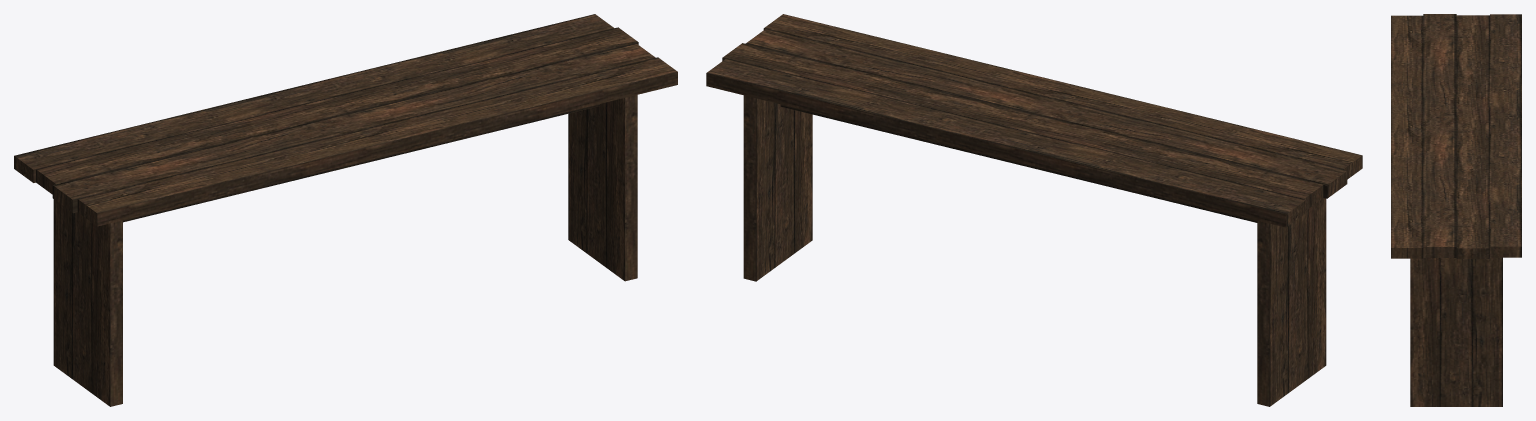
The model's file is bench_mx_1.obj.
3 views of the same model, side by side, from view 1: azimuth 30°, elevation 25°; view 2: azimuth 150°, elevation 25°; view 3: azimuth 270°, elevation 25° (orthographic). The views are drawn at different scales.
Parts seen in each view (by area): view 1: bench_mx_1; view 2: bench_mx_1; view 3: bench_mx_1.
Part boxes in pixels (<box>): bench_mx_1: <box>14,14,677,406</box>; bench_mx_1: <box>706,14,1362,406</box>; bench_mx_1: <box>1391,14,1521,406</box>.
Bounding box in the file's own units: 1.86 × 0.63 × 0.438.
